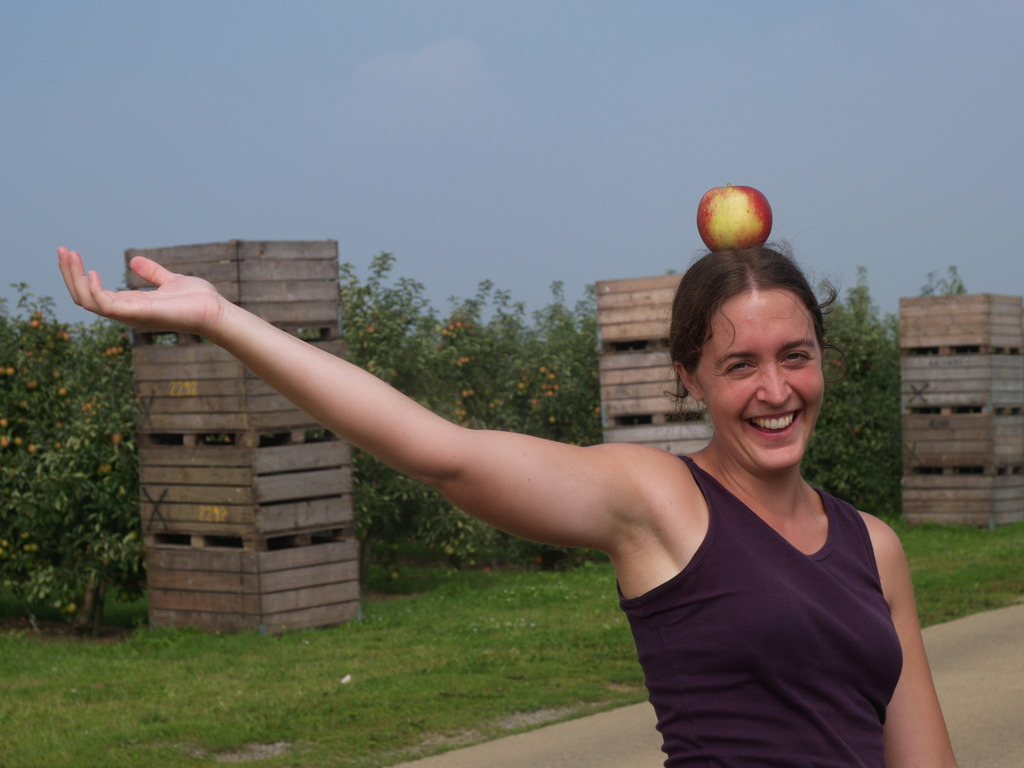Apple: (690, 183, 775, 255)
